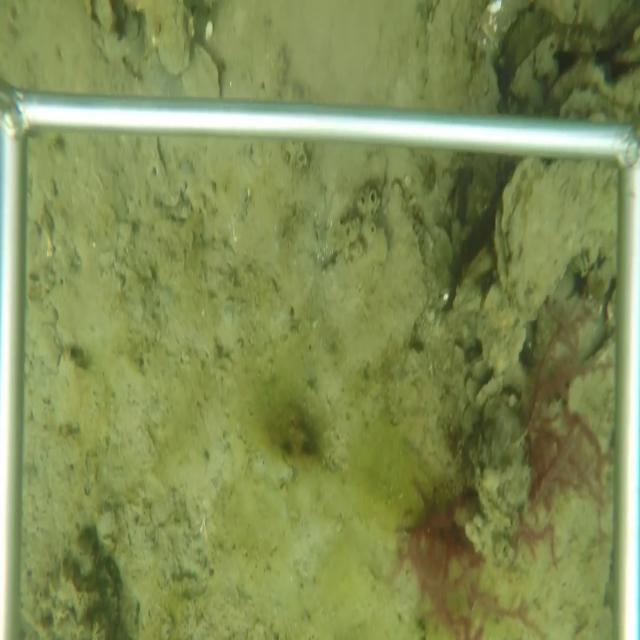Oyster-Closed: (474, 157, 617, 378)
